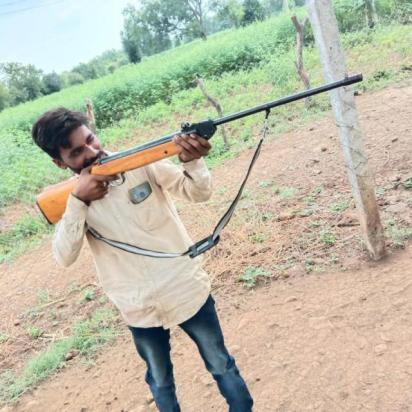Gun: (41, 139, 366, 229)
